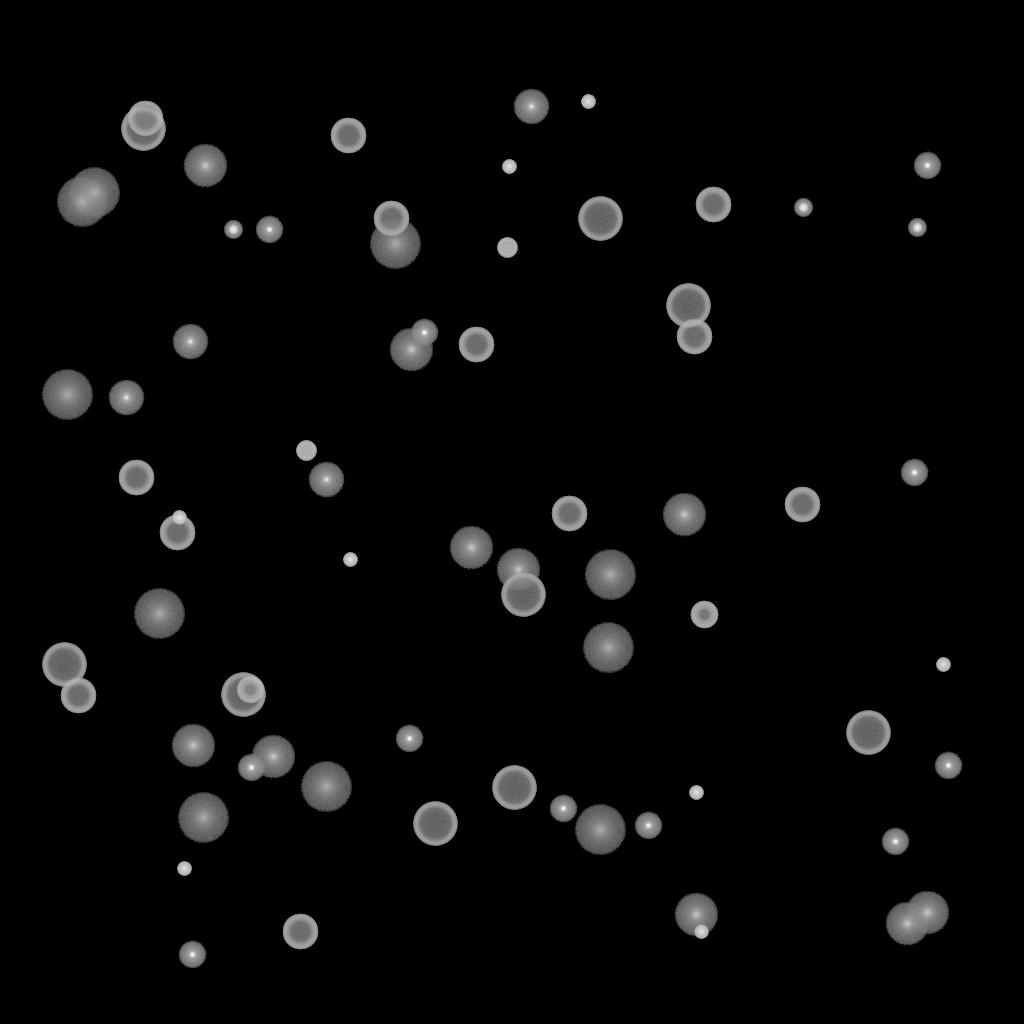depth:-10: (934, 752, 962, 780), (881, 828, 909, 856), (913, 152, 941, 180), (255, 216, 283, 244), (237, 754, 265, 782), (395, 725, 423, 753), (549, 795, 577, 823), (900, 459, 928, 487), (178, 941, 206, 969), (410, 319, 438, 347), (634, 812, 662, 840)
depth:-20: (908, 219, 926, 237), (224, 221, 242, 239), (794, 199, 812, 217)
depth:-30: (177, 862, 191, 876), (502, 160, 516, 174), (172, 511, 186, 525), (694, 925, 708, 939), (343, 553, 357, 567), (689, 786, 703, 800), (581, 95, 595, 109), (936, 658, 950, 672)
depth:-40: (296, 441, 316, 461), (497, 238, 517, 258)
depth:-50: (690, 601, 718, 629), (236, 676, 264, 704)
depth:-60: (695, 187, 731, 223), (784, 487, 820, 523), (373, 201, 409, 237), (159, 515, 195, 551), (60, 678, 96, 714), (676, 319, 712, 355), (282, 914, 318, 950), (127, 101, 163, 137), (551, 496, 587, 532), (118, 460, 154, 496), (330, 118, 366, 154), (458, 327, 494, 363)
depth:-70: (501, 573, 545, 617), (666, 284, 710, 328), (121, 107, 165, 151), (42, 643, 86, 687), (413, 802, 457, 846), (846, 711, 890, 755), (492, 766, 536, 810), (578, 197, 622, 241), (221, 673, 265, 717)
depth:0: (108, 380, 144, 416), (172, 324, 208, 360), (308, 462, 344, 498), (513, 89, 549, 125)
depth:10: (171, 724, 215, 768), (905, 891, 949, 935), (449, 526, 493, 570), (662, 493, 706, 537), (183, 144, 227, 188), (885, 902, 929, 946), (389, 328, 433, 372), (251, 735, 295, 779), (496, 548, 540, 592), (674, 893, 718, 937)
depth:20: (584, 550, 636, 600), (369, 219, 421, 269), (300, 762, 352, 812), (56, 177, 108, 227), (68, 168, 120, 218), (582, 623, 634, 673), (177, 793, 229, 843), (133, 589, 185, 639), (574, 805, 626, 855), (41, 370, 93, 420)
